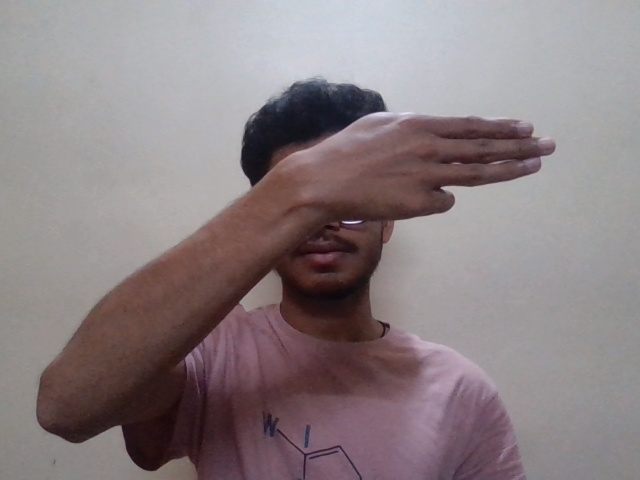wednesday: (275, 108, 561, 261)
